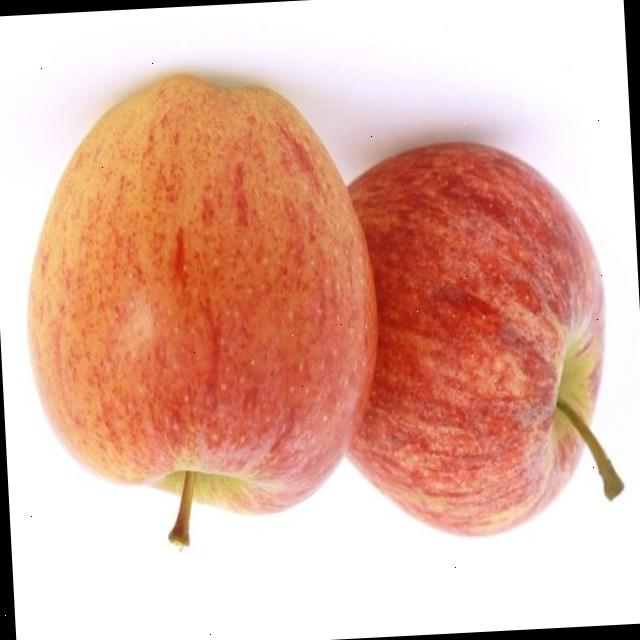Apel: (13, 64, 390, 558), (328, 135, 626, 547)
